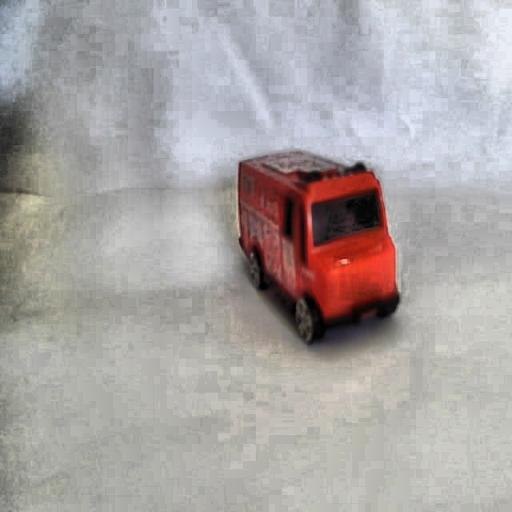fire_truck: (233, 147, 402, 347)
